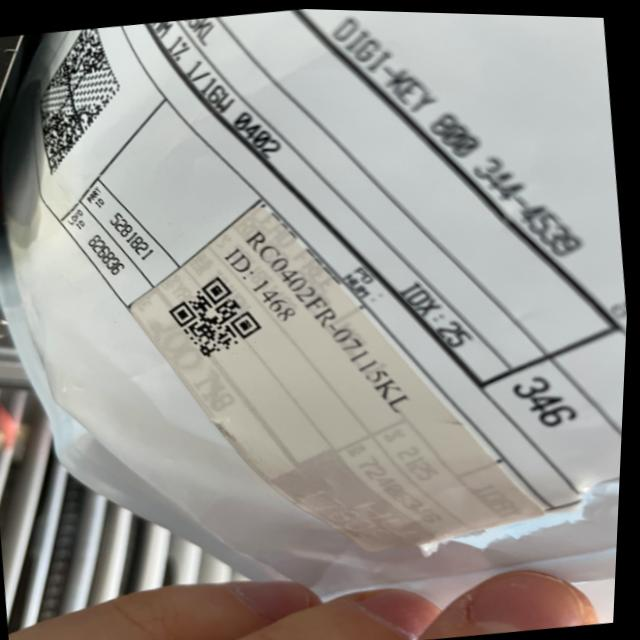datamatrix: (26, 24, 135, 178)
qrcode: (166, 268, 270, 365)
